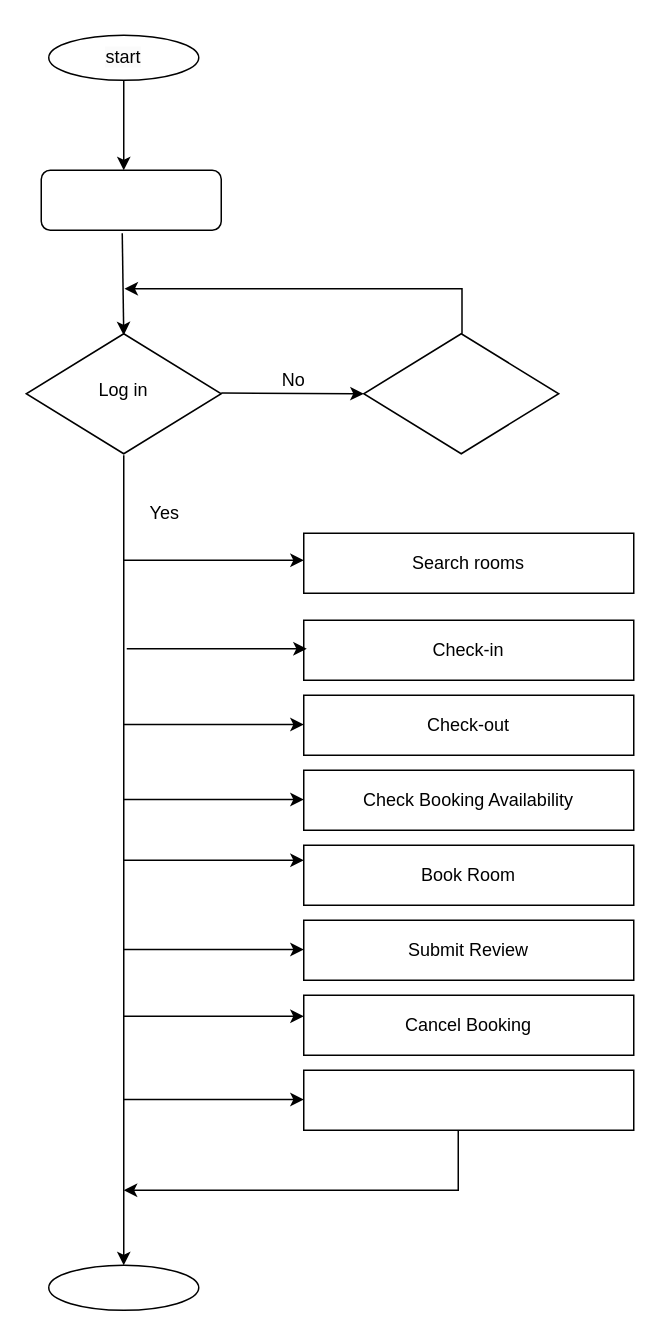
Some shapes in this 660 by 1337 pixel diagram are drawn without their labels. Here are the shapes that lost their labels. From the top down, the box of each, then its label:
(40, 169, 221, 230): User
(362, 332, 559, 454): Register
(302, 1069, 634, 1130): Log out
(47, 1264, 199, 1310): stop
